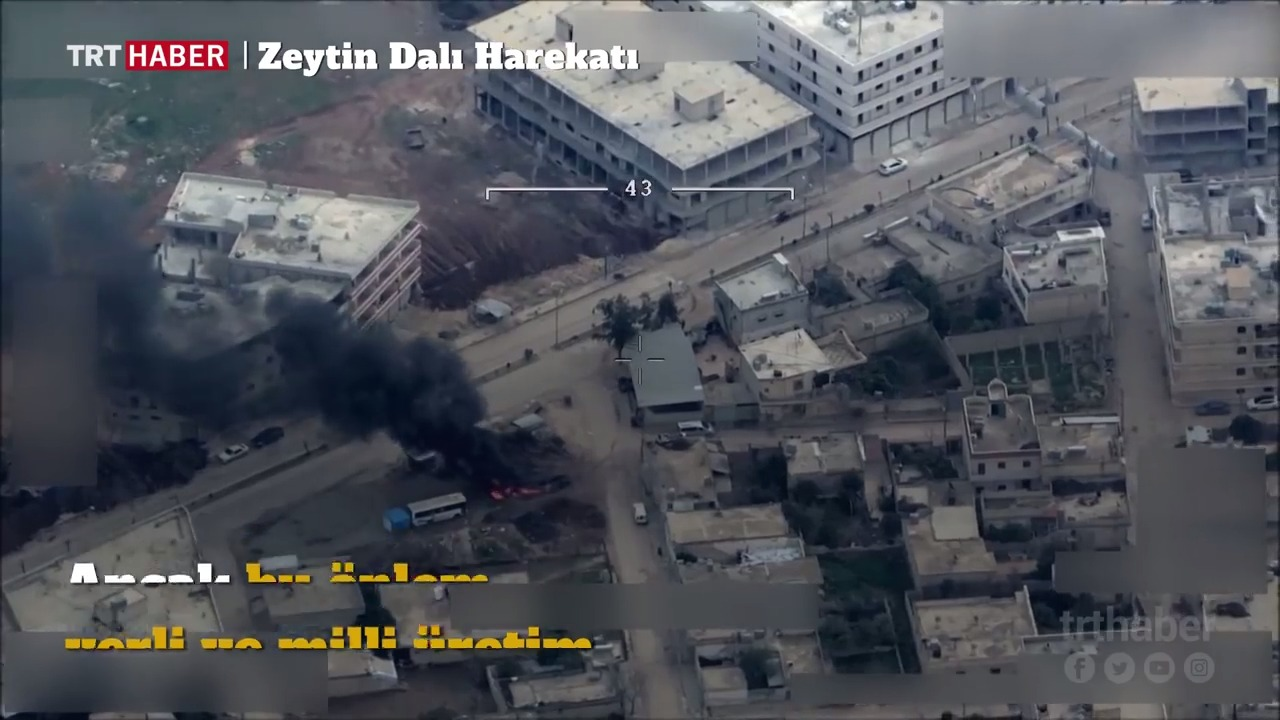arac: (407, 490, 475, 529), (249, 412, 287, 454), (1192, 390, 1235, 422), (216, 432, 250, 463), (669, 415, 720, 435), (1246, 384, 1280, 412), (876, 149, 912, 174), (630, 492, 654, 527), (1093, 200, 1116, 223), (1137, 205, 1157, 228)
